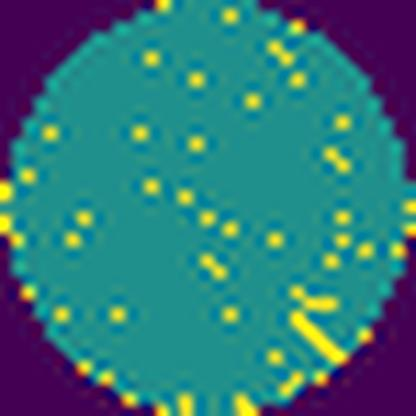Loc: (293, 312, 345, 360)
